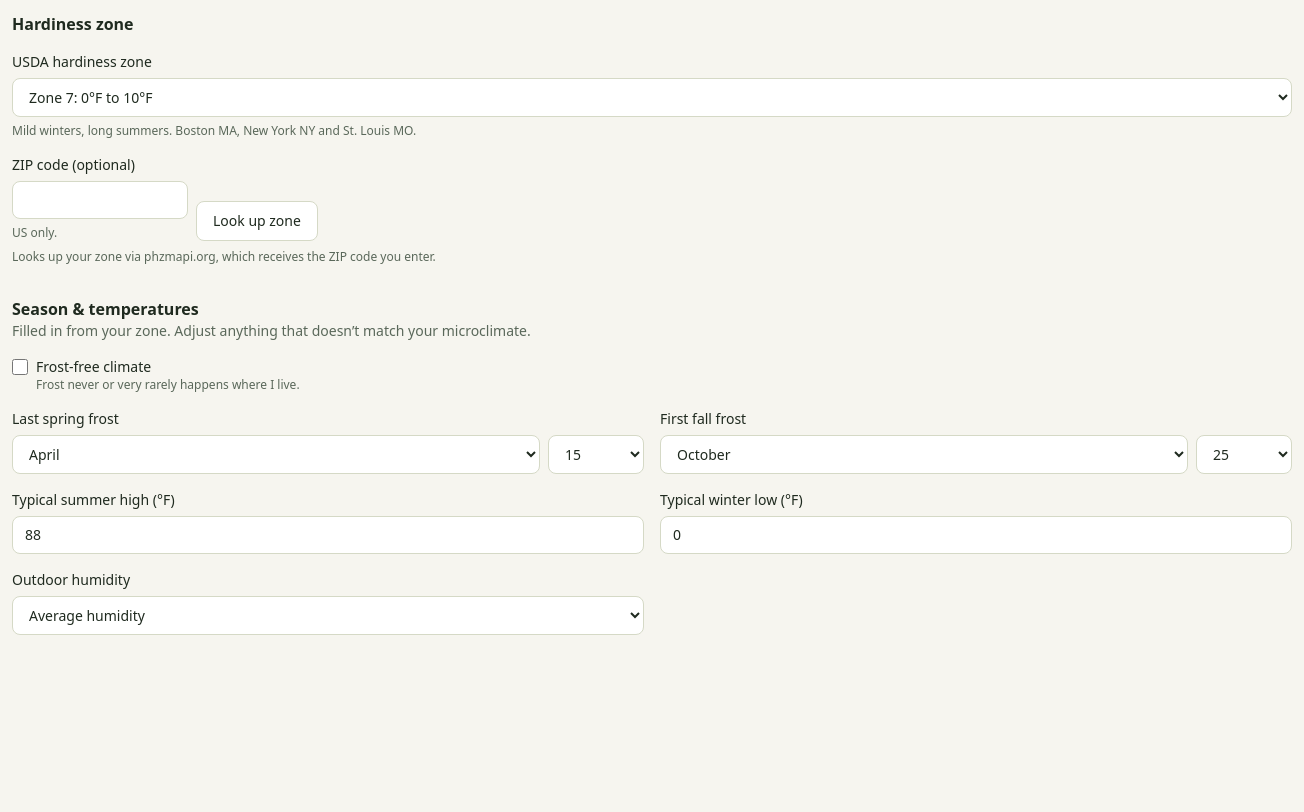
ClimateStep zip lookup › clears the 'We selected zone' message when the zone is changed by hand
In the field labelled "ZIP code (optional)": (100, 200) top-left (12, 181), bottom-right (188, 219), type "02134"
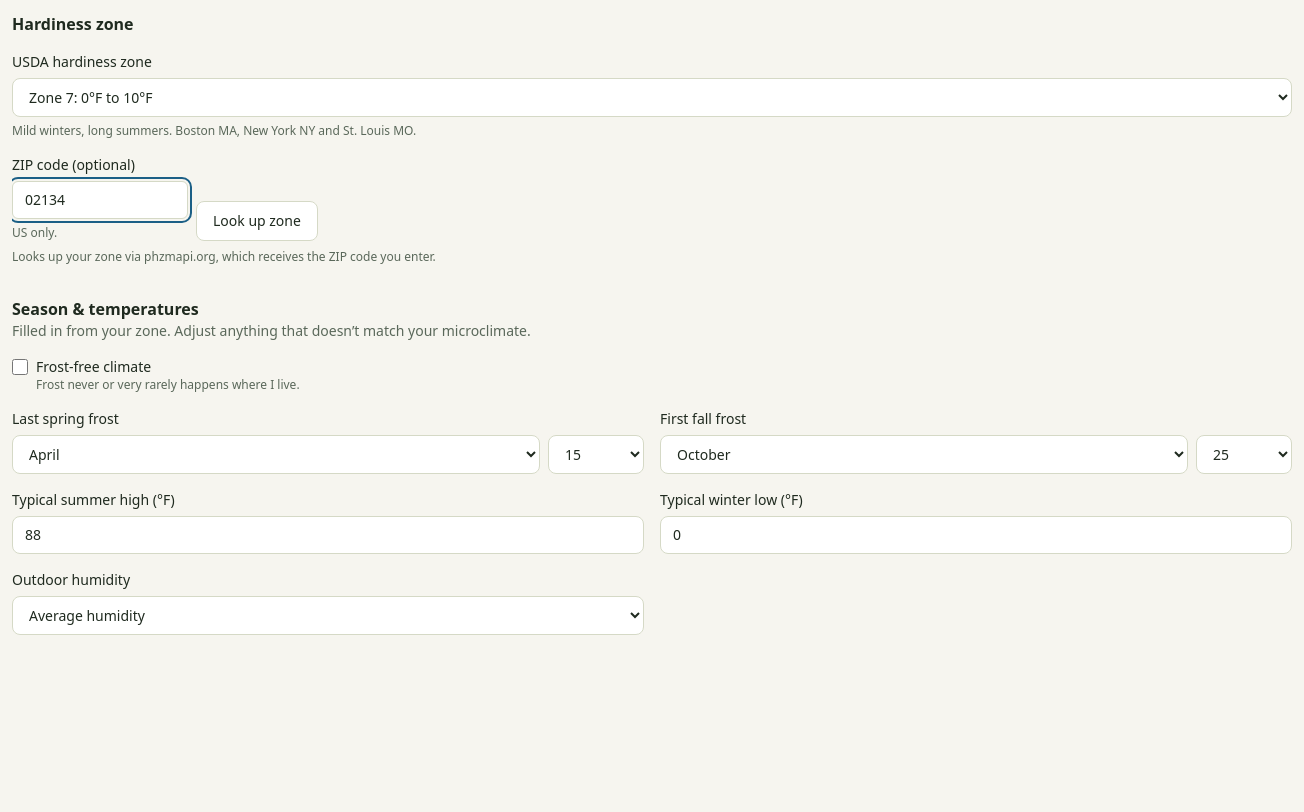
Click the button "Look up zone": (257, 221) top-left (196, 201), bottom-right (318, 241)
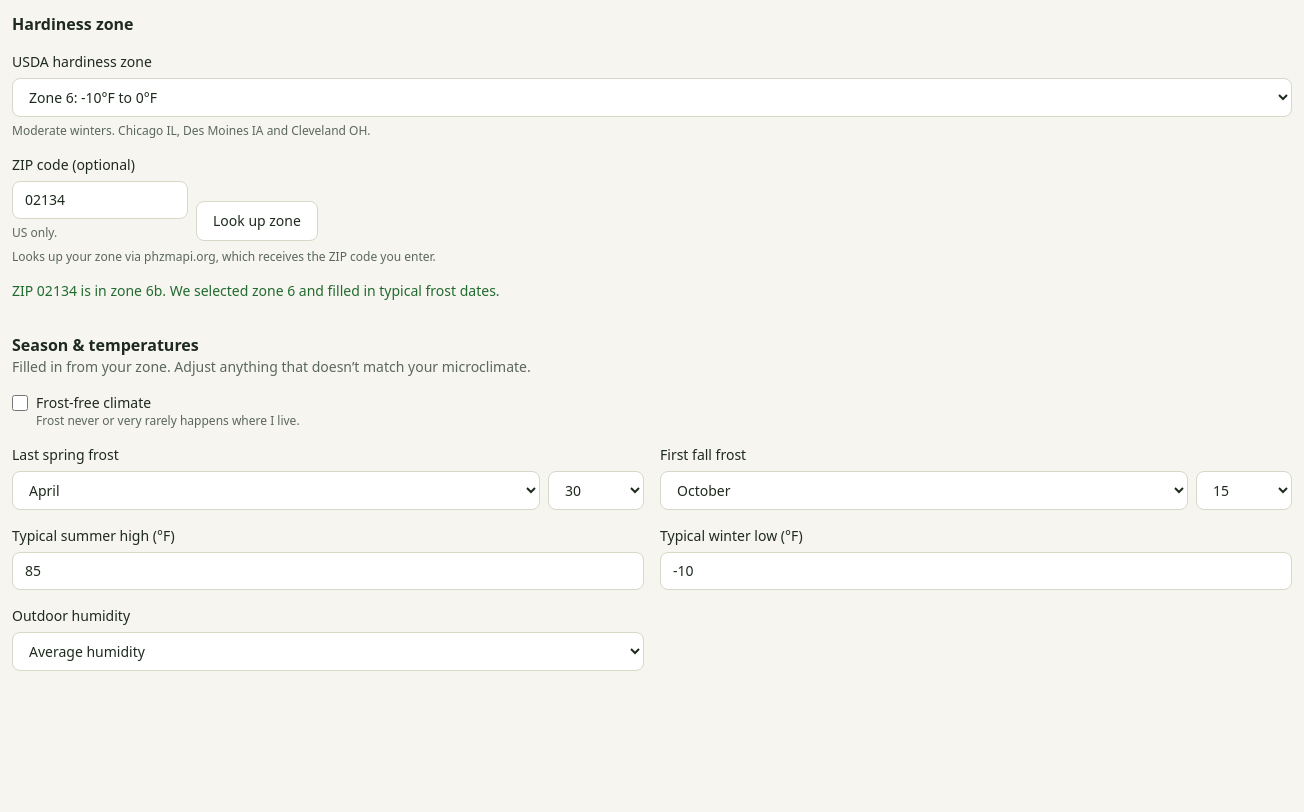
Expected: the message shows "We selected zone 6", top-left (12, 281), bottom-right (500, 300)
Select "Zone 5: -20°F to -10°F" in the dropdown labelled "USDA hardiness zone": (652, 98) top-left (12, 78), bottom-right (1292, 117)
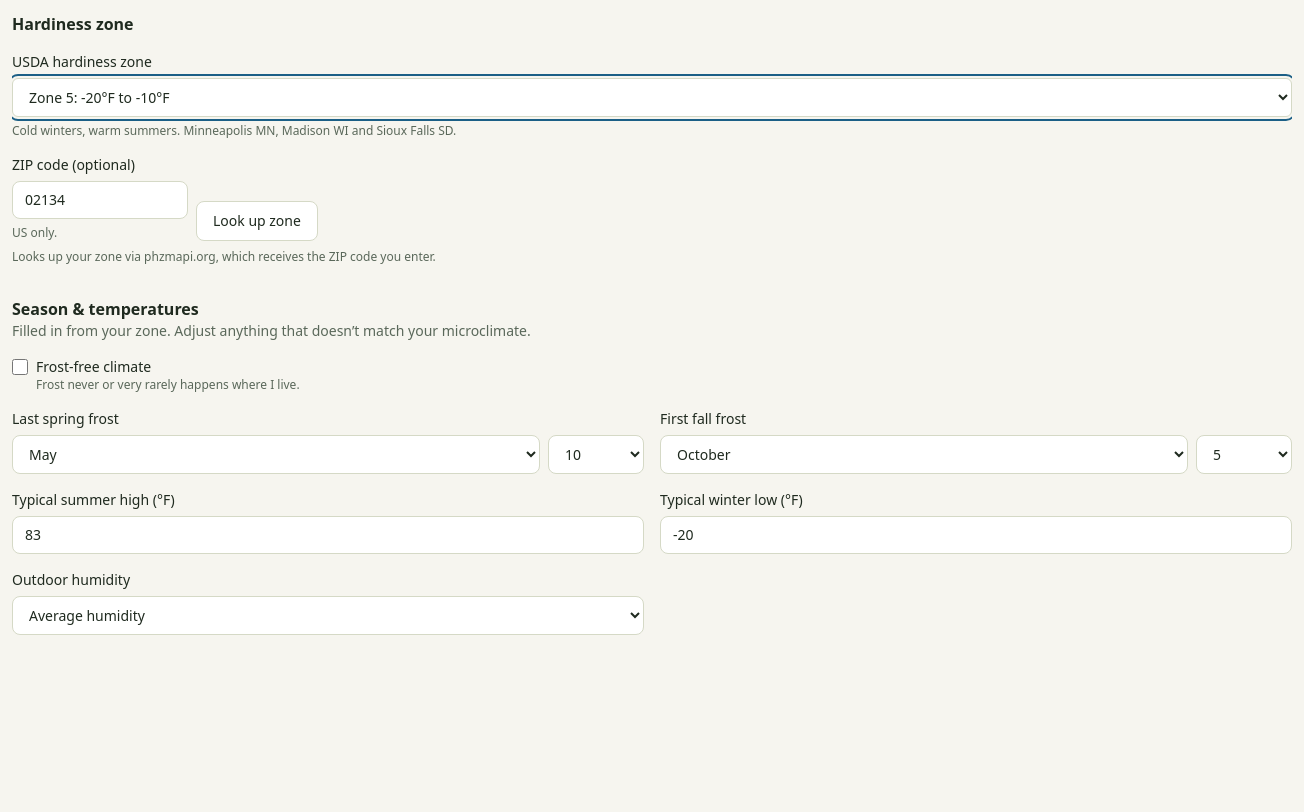
Expected: the message "ZIP 02134 is in zone 6b. We selected zone 6 and filled in typical frost dates." is gone
